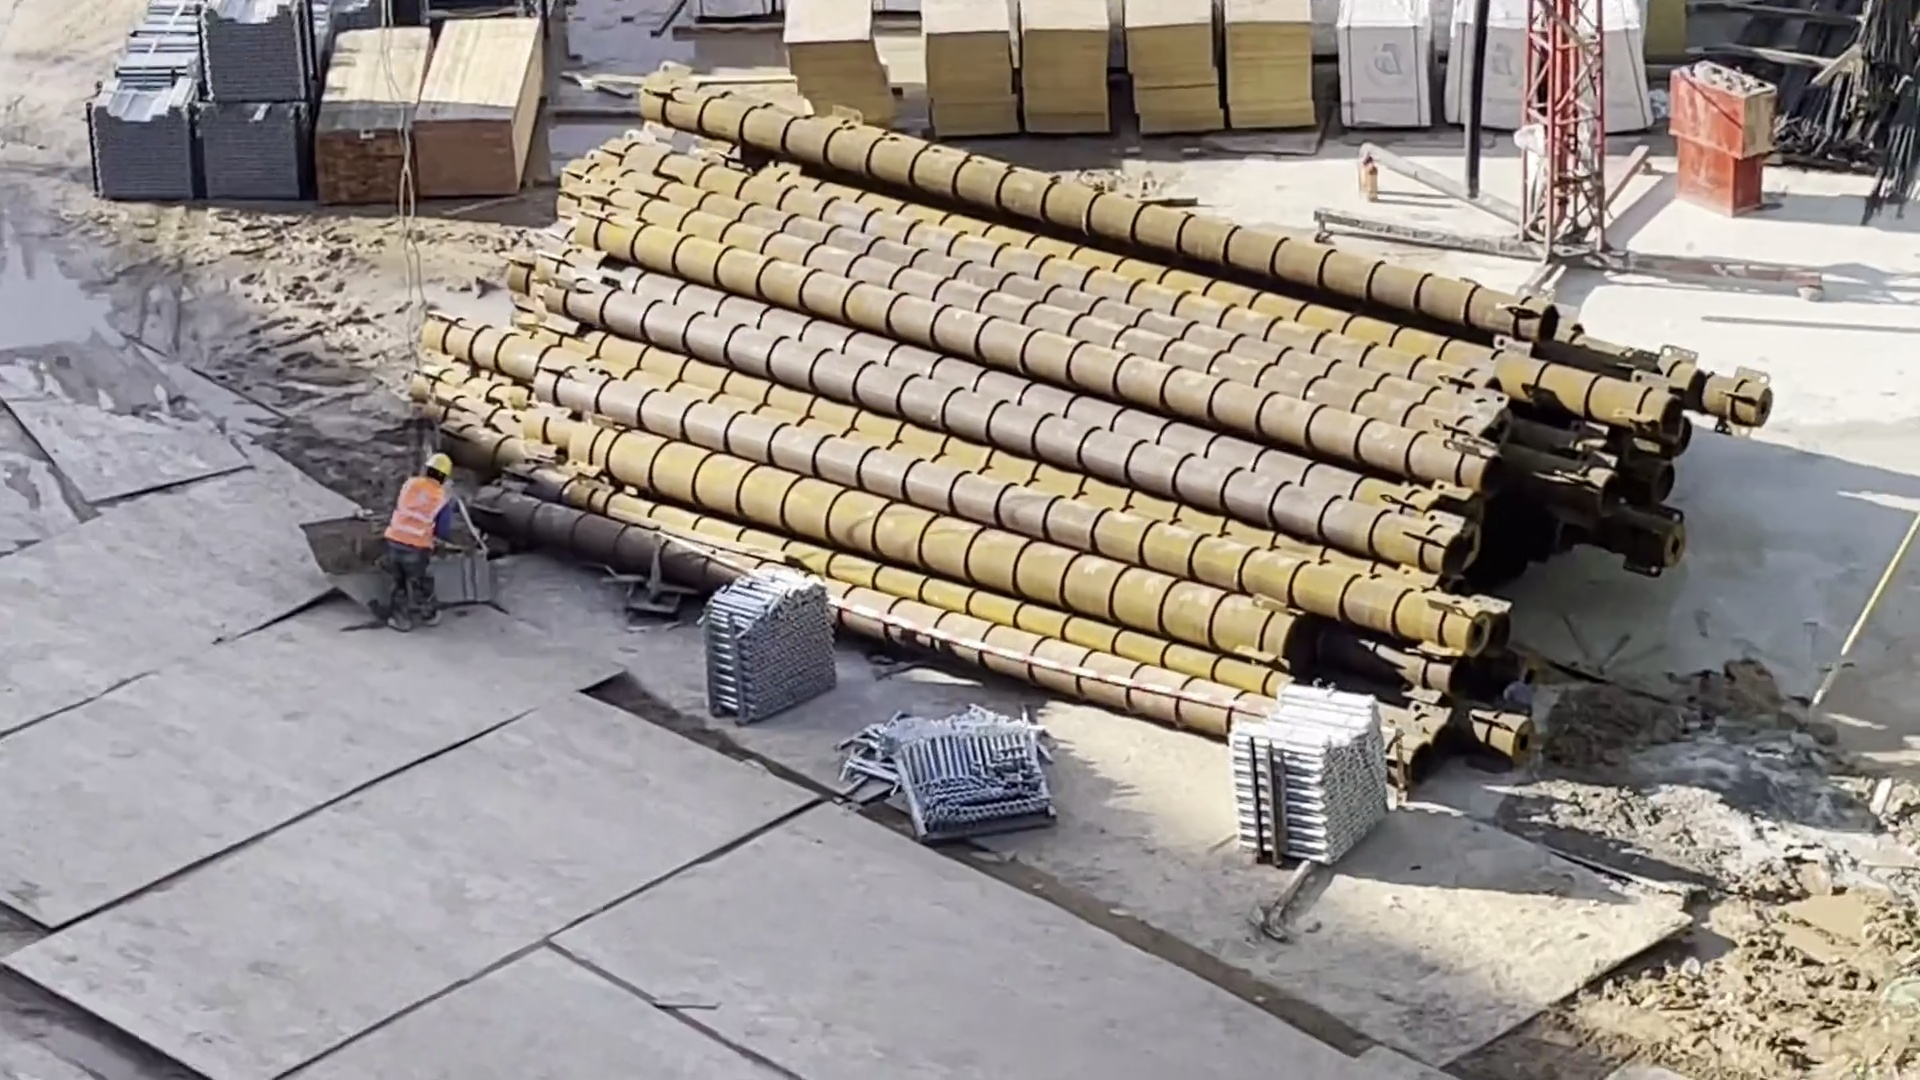board: (780, 1, 906, 135), (914, 5, 1026, 146), (1217, 1, 1329, 139), (1122, 1, 1230, 139), (1012, 4, 1118, 142)
helmet: (418, 445, 456, 482)
person: (373, 423, 466, 642)
scaffold: (1225, 662, 1421, 886), (680, 538, 847, 738)
vest: (381, 471, 459, 548)
